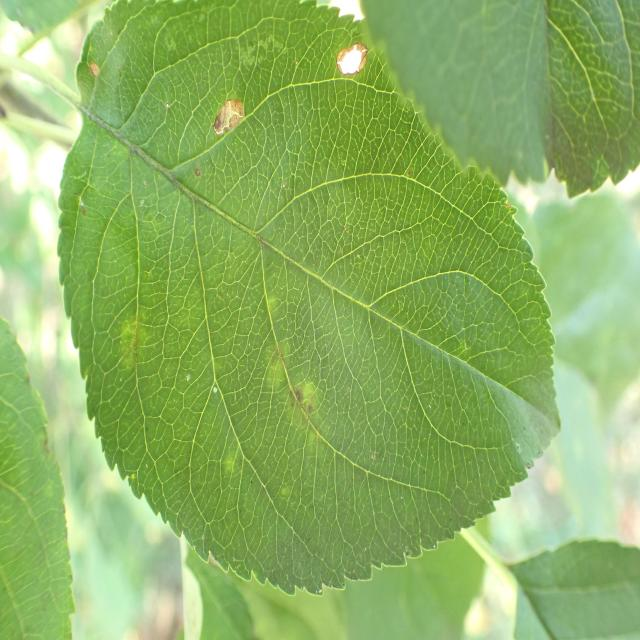frog-eye-leaf-spot: (55, 2, 560, 600)
